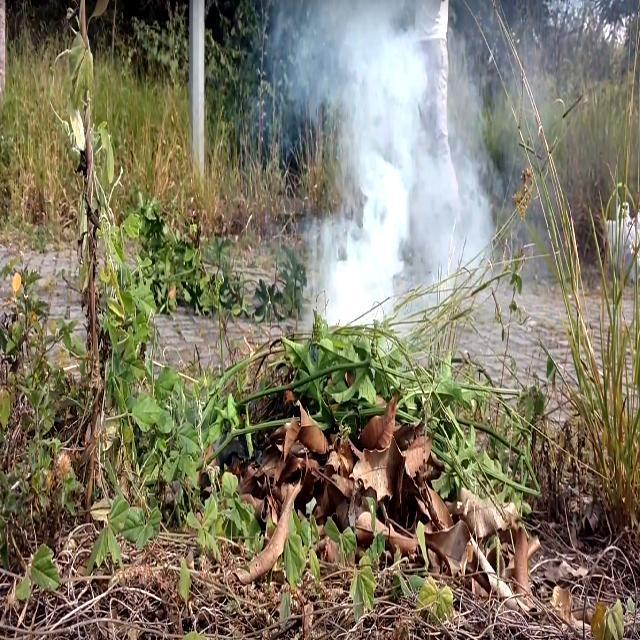Smoke: (304, 2, 498, 314)
